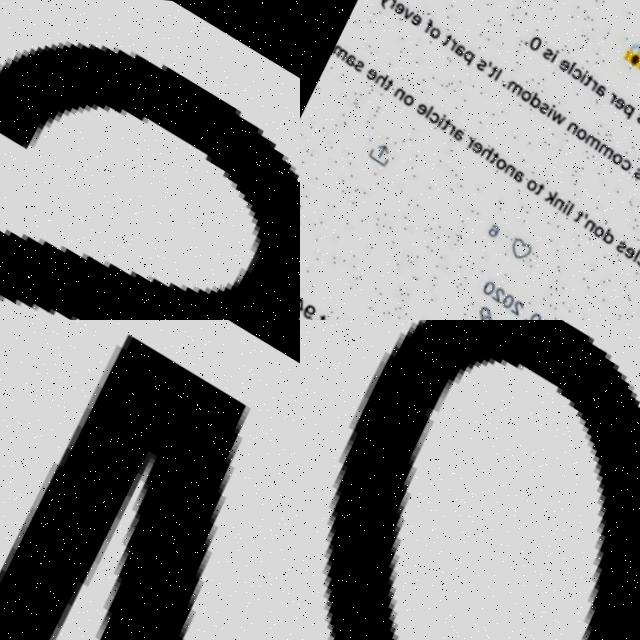0: (300, 320, 640, 640), (526, 29, 545, 49), (475, 273, 493, 294), (494, 287, 512, 307), (520, 305, 538, 320)
2: (501, 292, 522, 315), (484, 280, 502, 301), (530, 311, 548, 320)
6: (481, 217, 498, 237)
9: (300, 301, 313, 320)
M: (0, 320, 300, 640)
S: (0, 0, 300, 320)
